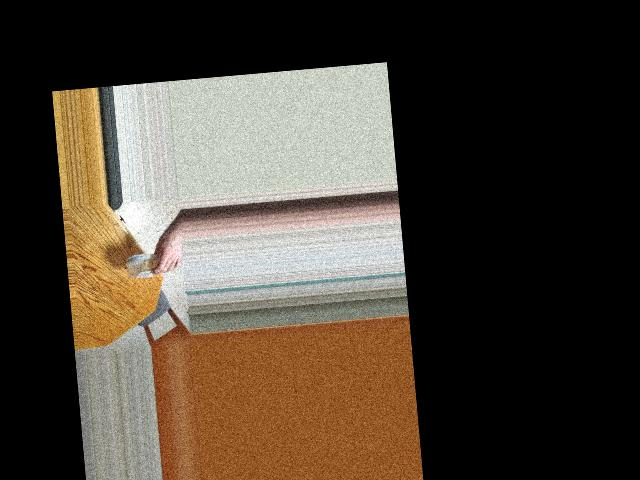cheese: (127, 243, 175, 286)
